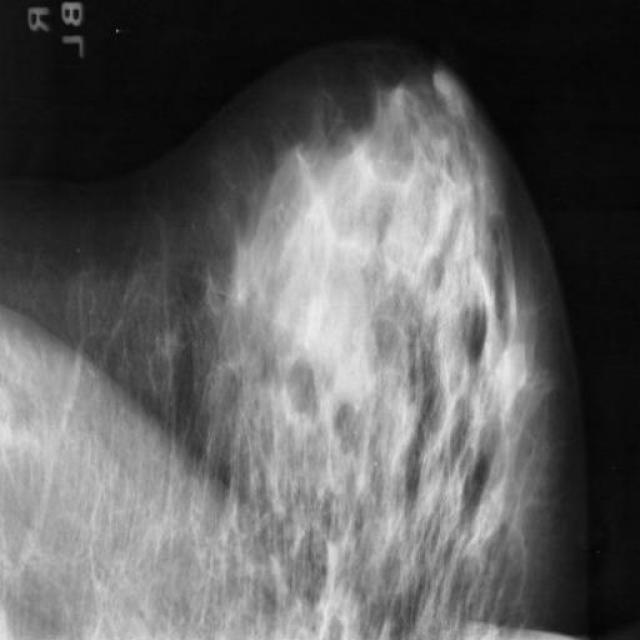cancer: (347, 115, 389, 200)
